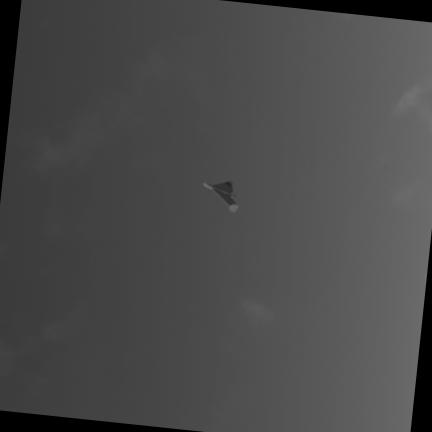Shahed: (204, 181, 238, 211)
